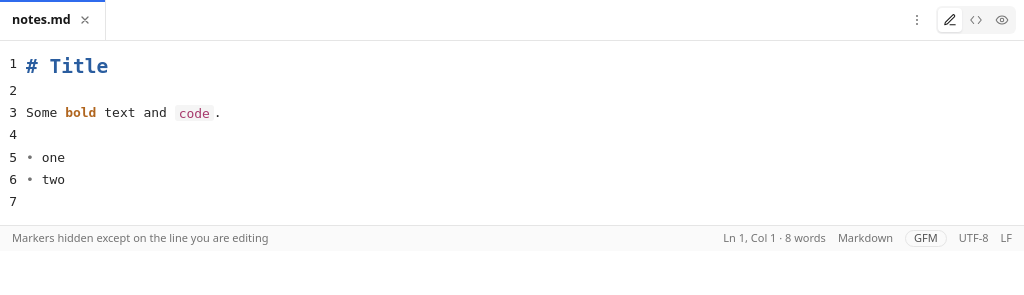
Test: the formatting toolbar › appears in Source, and in neither of the other views
Click the button named "Source": (976, 20) [964,8,988,32]
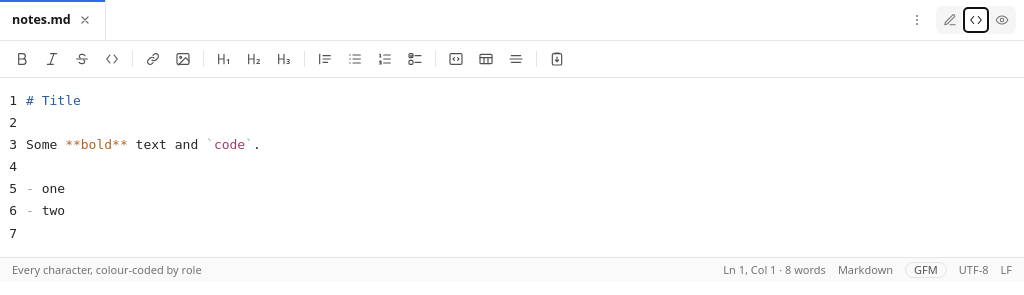
Result: the element named "Formatting" is shown at [0,41,1023,78]
Click the button named "Preview": (1002, 20) [990,8,1014,32]
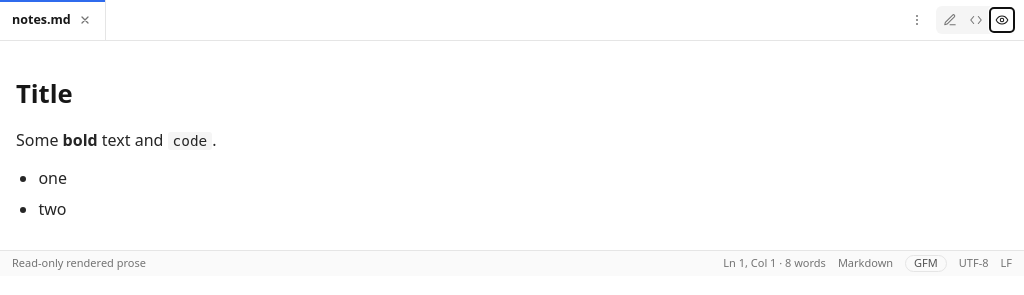
Result: the element "Formatting" is gone
